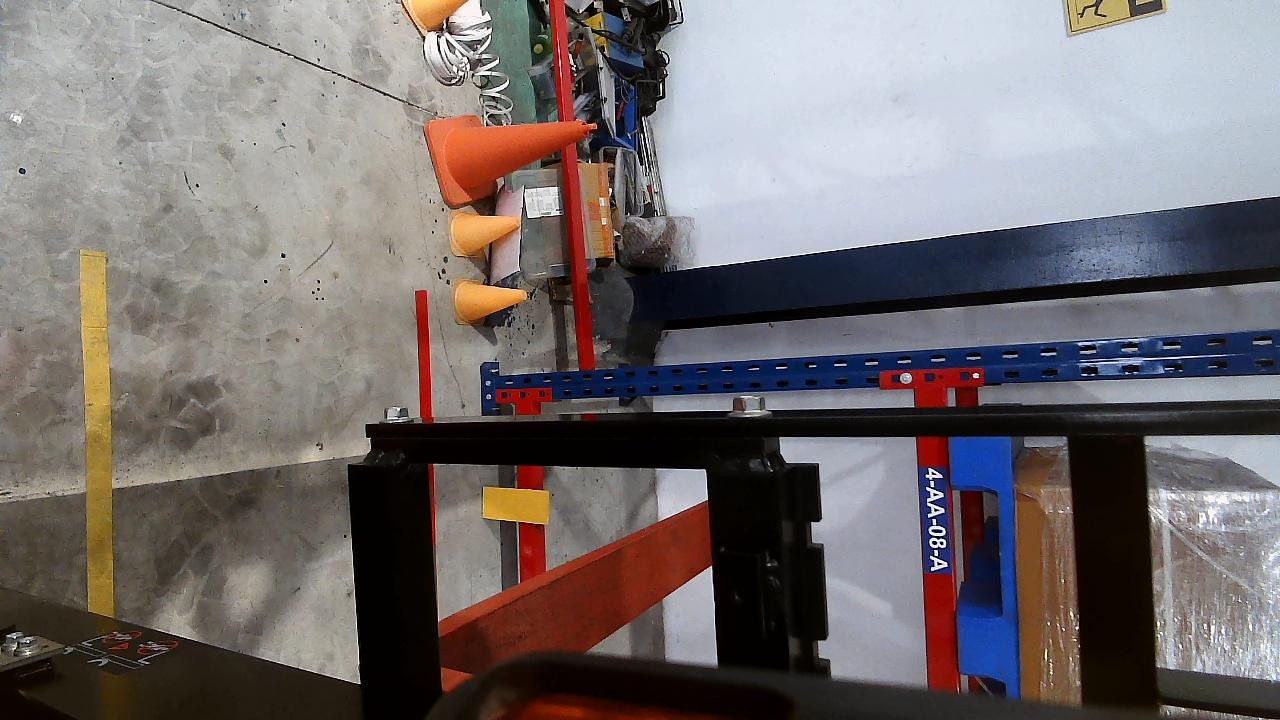h_rack: (913, 388, 963, 693)
orange_strip: (482, 487, 550, 525)
red_line: (414, 293, 435, 424)
small_pallet: (948, 443, 1022, 699)
yellow_line: (79, 248, 113, 615)
